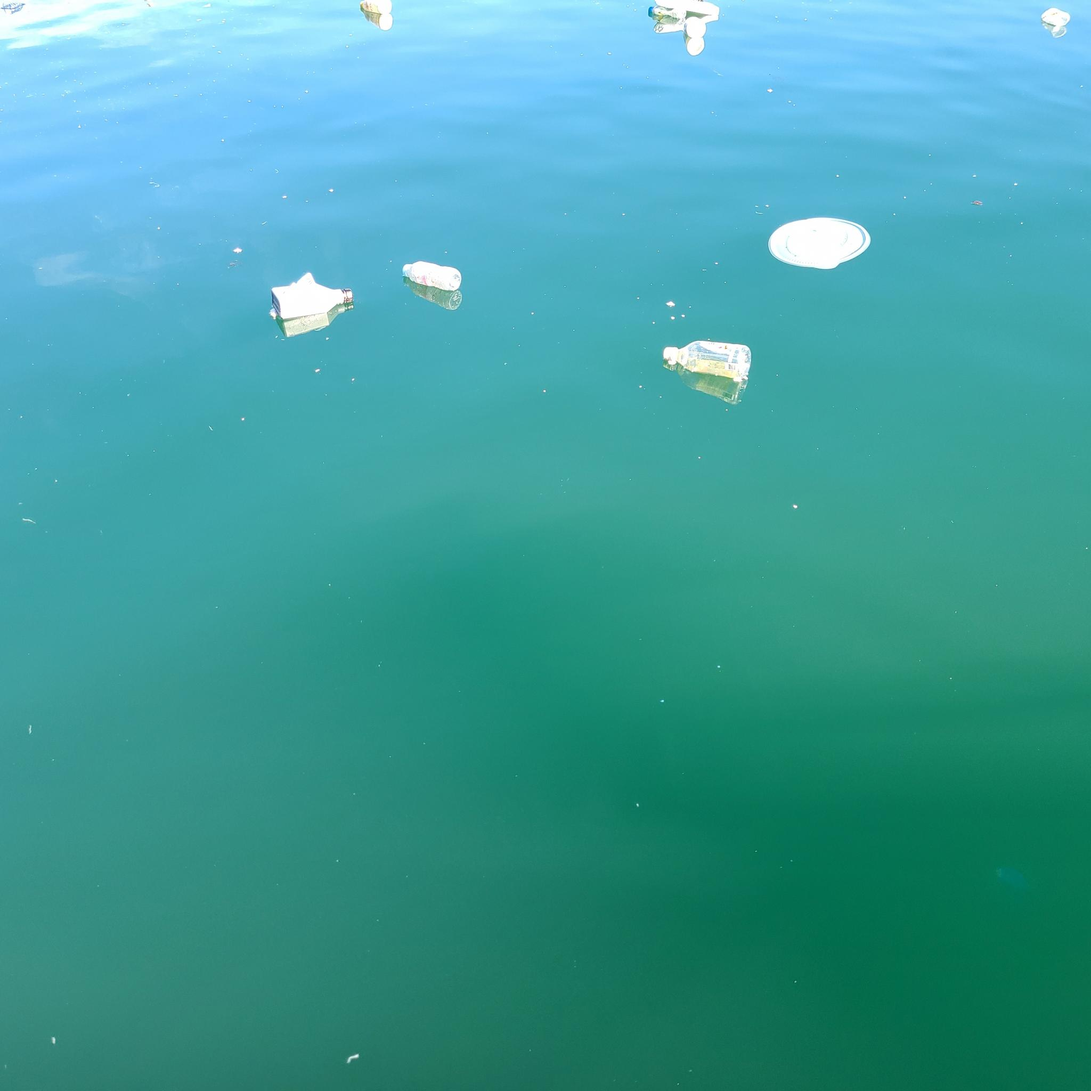sampah_terapung: (664, 341, 752, 378), (272, 285, 354, 320), (403, 262, 462, 291), (656, 1, 720, 16), (684, 17, 707, 38), (649, 7, 687, 19), (361, 1, 393, 14)
